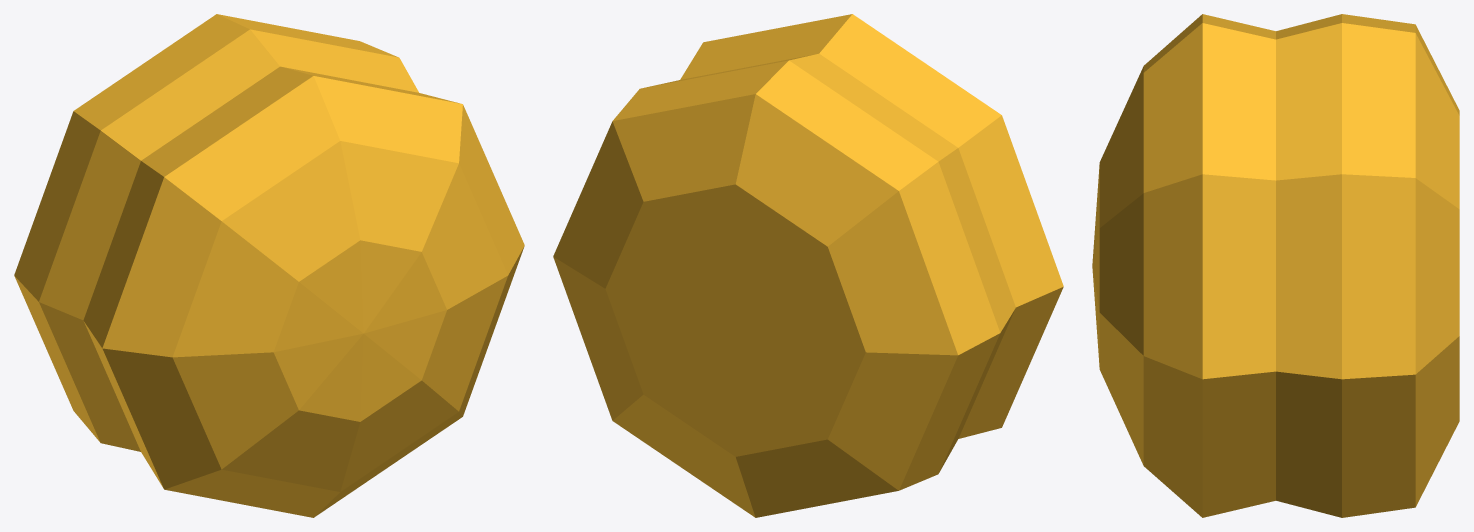
The model's file is navigation_buoy_collision.obj.
3 renders of one model, left to right at view 1: azimuth 30°, elevation 25°; view 2: azimuth 150°, elevation 25°; view 3: azimuth 270°, elevation 25°, orthographic. The views are drawn at different scales.
Parts seen in each view (by area): view 1: navigation_buoy_collision_shell; view 2: navigation_buoy_collision_shell; view 3: navigation_buoy_collision_shell.
Part boxes in pixels (x1,y1,x2,y2): navigation_buoy_collision_shell: (14,14,524,517); navigation_buoy_collision_shell: (553,14,1063,517); navigation_buoy_collision_shell: (1092,14,1459,517).
Size of the model in its own units: 1.46 by 1.46 by 1.
